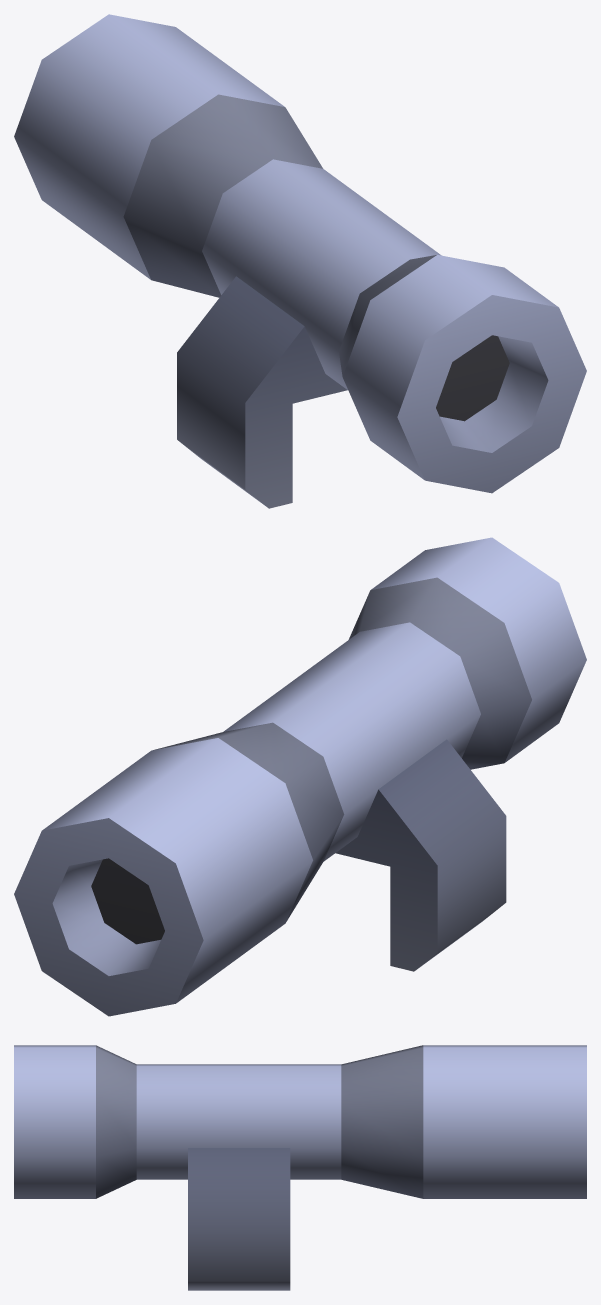
File: scope-small.glb
3 renders of one model, top to bottom at view 1: azimuth 30°, elevation 25°; view 2: azimuth 150°, elevation 25°; view 3: azimuth 270°, elevation 25°, orthographic. The views are drawn at different scales.
Parts seen in each view (by area): view 1: scope-small; view 2: scope-small; view 3: scope-small.
Part boxes in pixels (bbox=[...]): scope-small: bbox=[14, 14, 586, 508]; scope-small: bbox=[14, 537, 586, 1016]; scope-small: bbox=[14, 1045, 586, 1290].
Bounding box in the file's own units: 0.11 × 0.11 × 0.28.
1 material, 1 textured.
